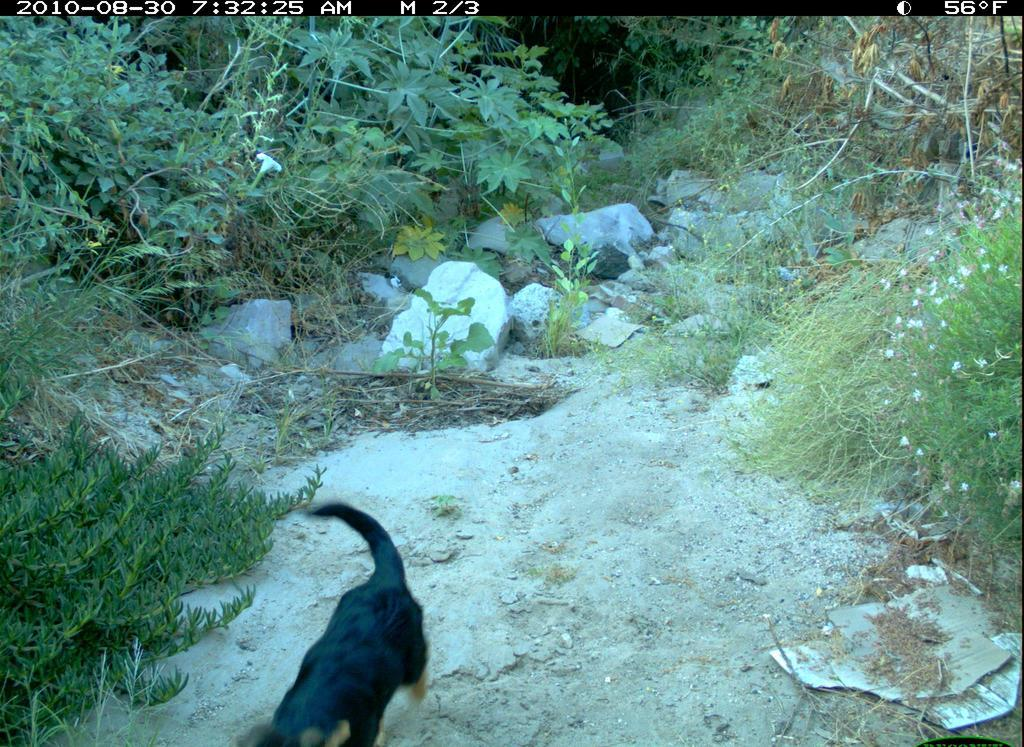dog: (237, 493, 456, 743)
